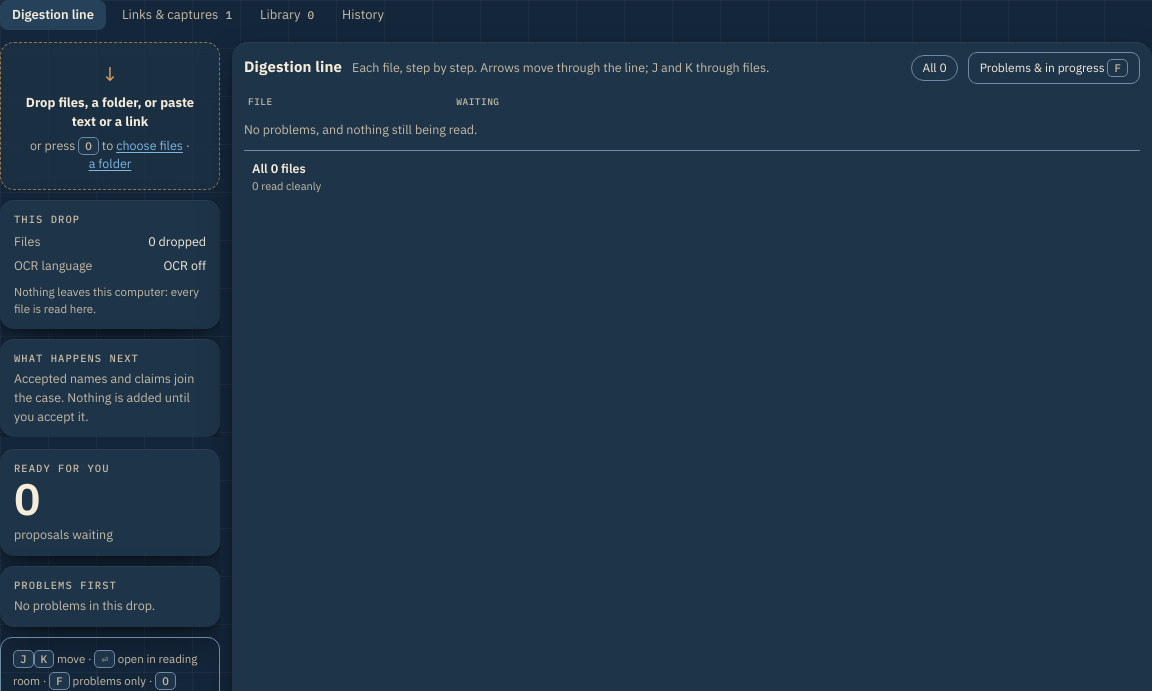
Test: Links & captures › shows a capture still running as a working lane, without a receipt
Click the button "Links & captures 1" at [177, 15], box [110,0,244,30]
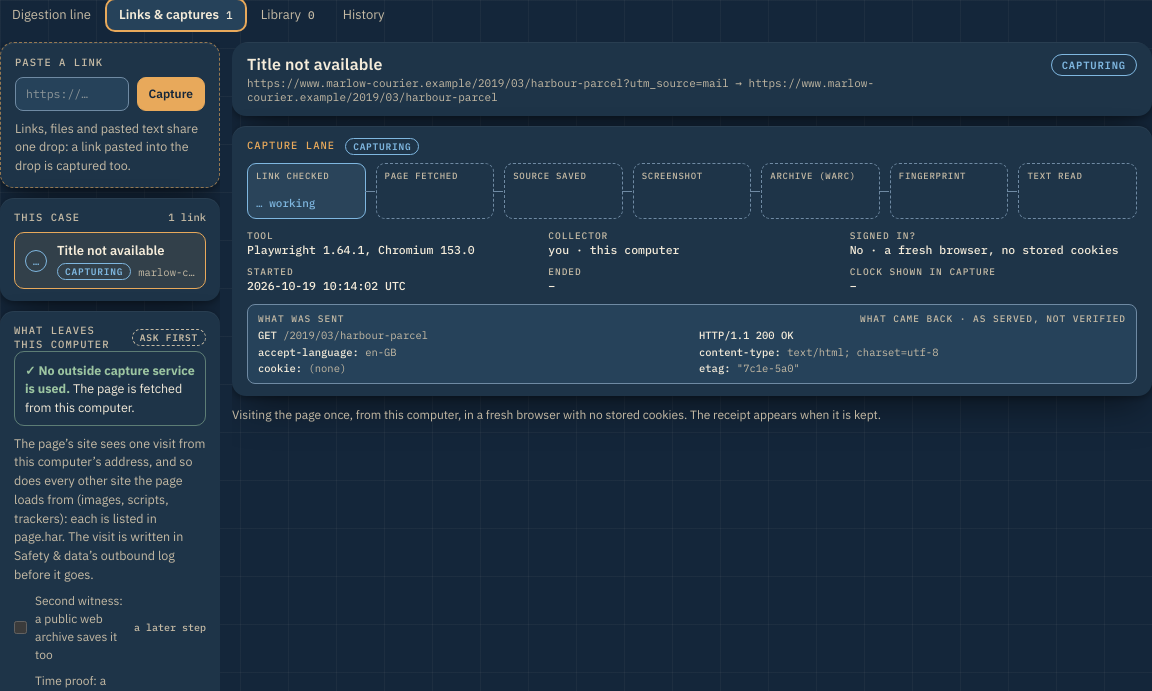
Result: the text "Capturing" next to "Capture lane" is shown at [353,140,411,152]
Result: the list item "Link checked … working" is shown at [247,162,366,218]
Result: the text "Visiting the page once, from this computer, in a fresh browser with no stored cookies" is shown at [232,407,881,422]
